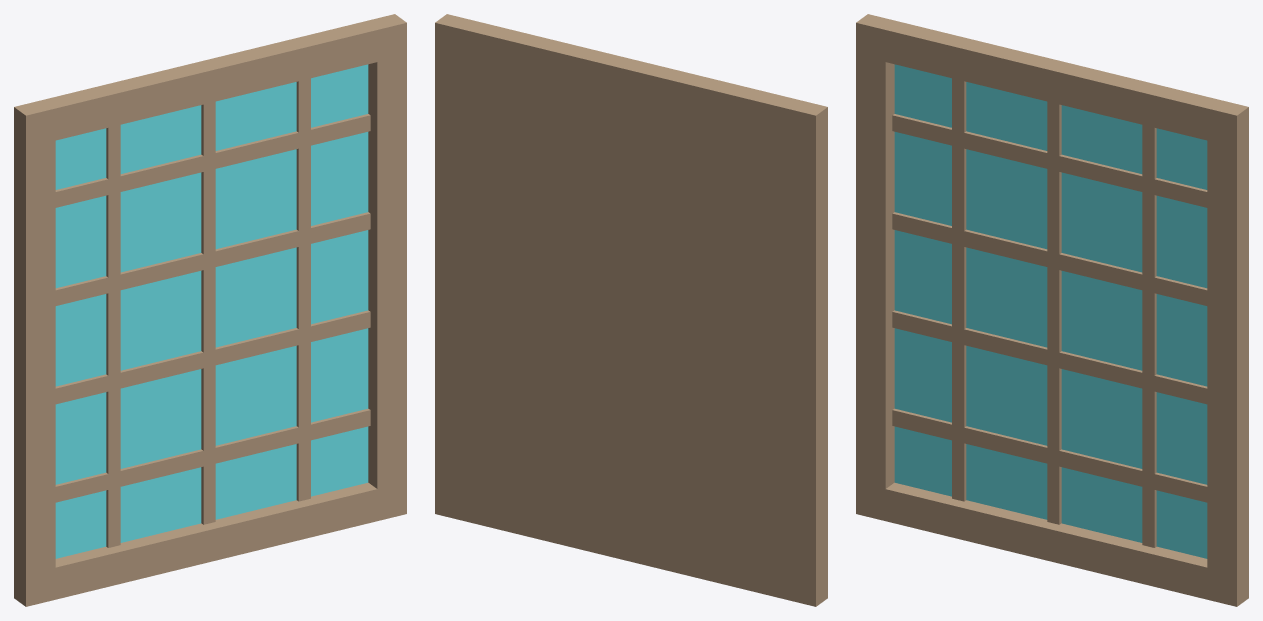
The model's file is windows.fbx.
3 views of the same model, side by side, from view 1: azimuth 30°, elevation 25°; view 2: azimuth 150°, elevation 25°; view 3: azimuth 330°, elevation 25° (orthographic).
Parts seen in each view (by area): view 1: window; view 2: window; view 3: window.
Boxes of the visible parts, box(x1,y1,x2,y2) form: window: box(14, 14, 406, 606); window: box(435, 14, 827, 606); window: box(856, 14, 1248, 606).
Bounding box in the file's own units: 121 × 150 × 6.6.
